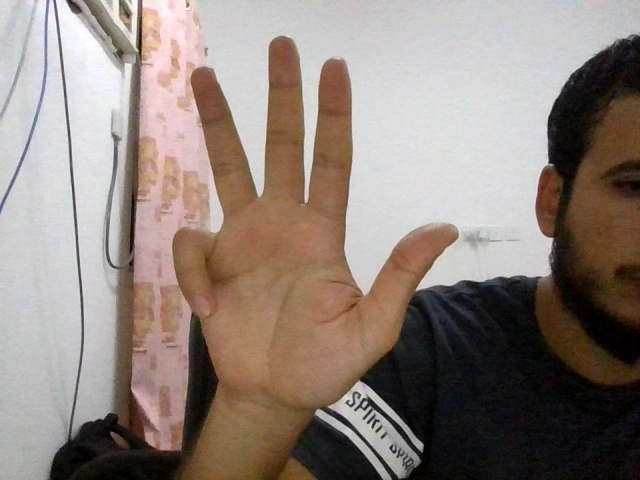Four: (172, 35, 461, 408)
